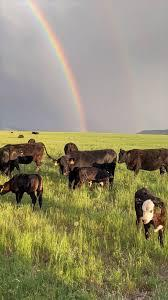cow: (52, 149, 118, 190), (134, 186, 168, 248), (1, 173, 43, 211), (118, 147, 168, 177), (8, 143, 58, 171), (68, 167, 114, 190), (0, 145, 21, 178), (63, 142, 78, 155)
